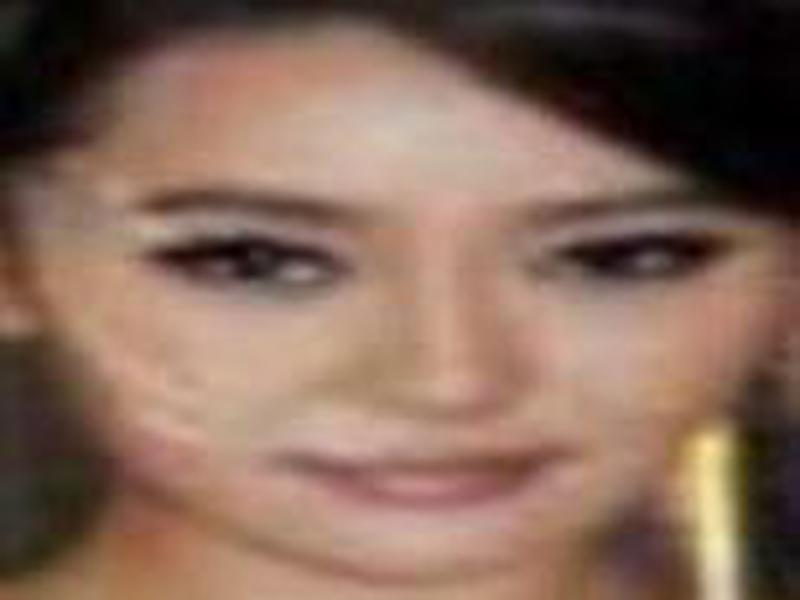without_mask: (34, 46, 733, 574)
